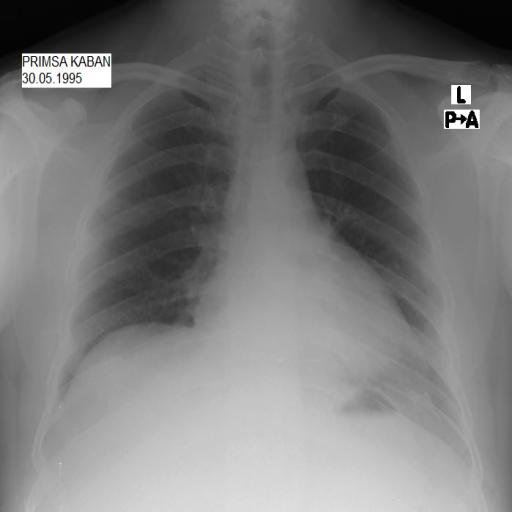kardiomegali: (38, 32, 482, 478)
